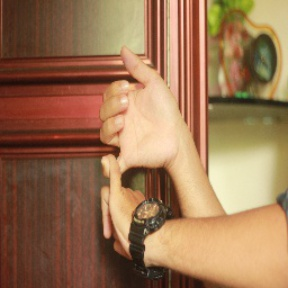S: (88, 44, 186, 269)
